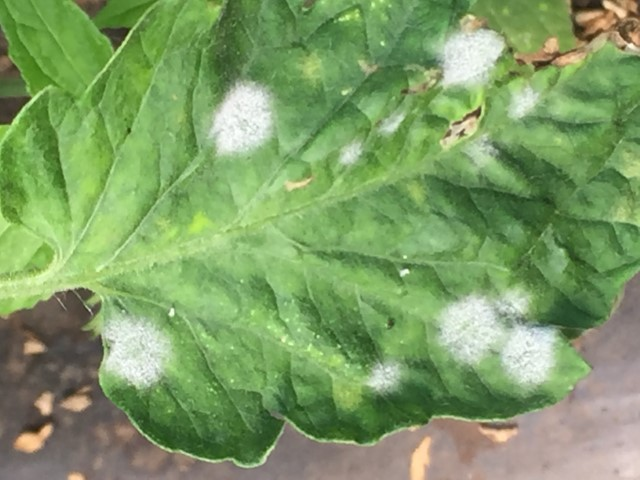oidio: (206, 78, 276, 158), (103, 313, 175, 388), (436, 291, 495, 367), (440, 27, 506, 92), (496, 323, 561, 386), (495, 283, 534, 322), (365, 362, 402, 398), (508, 83, 543, 119), (378, 113, 405, 136), (338, 140, 361, 164)
